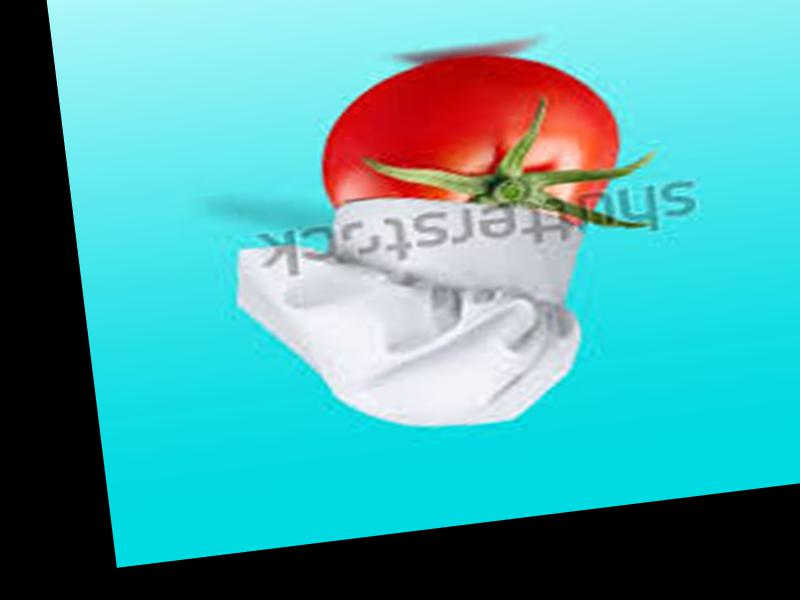Tomato: (311, 43, 624, 256)
